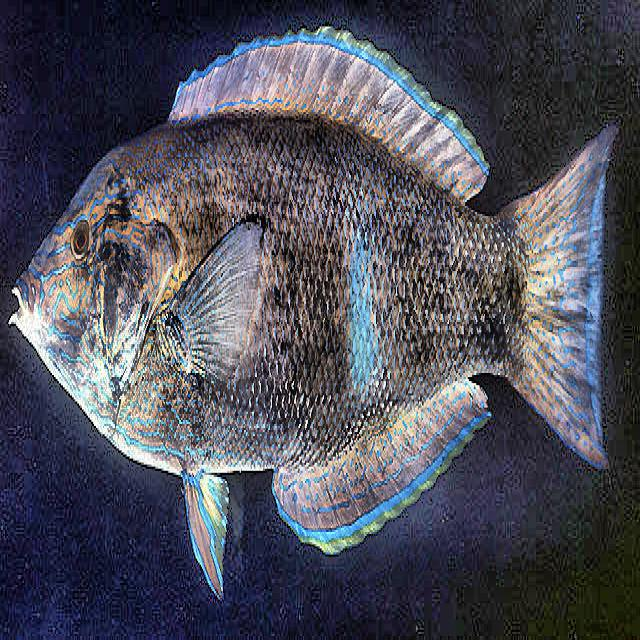fish: (8, 24, 619, 604)
